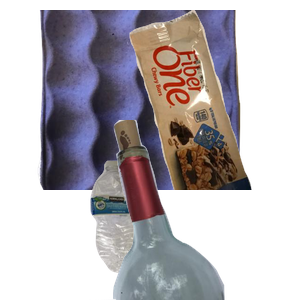glass: (89, 120, 300, 300)
paper: (35, 10, 268, 190)
plastic: (88, 158, 229, 300)
trash: (127, 10, 300, 190)
